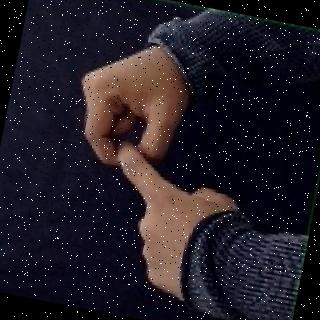Q: (36, 22, 260, 304)
